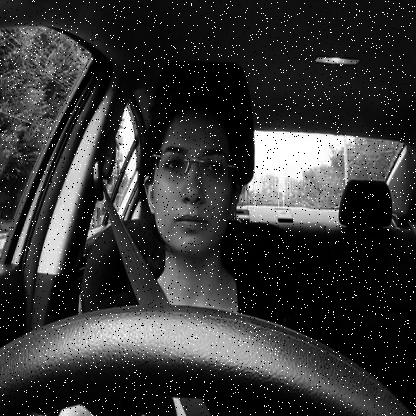seatbelt: (87, 75, 271, 416)
